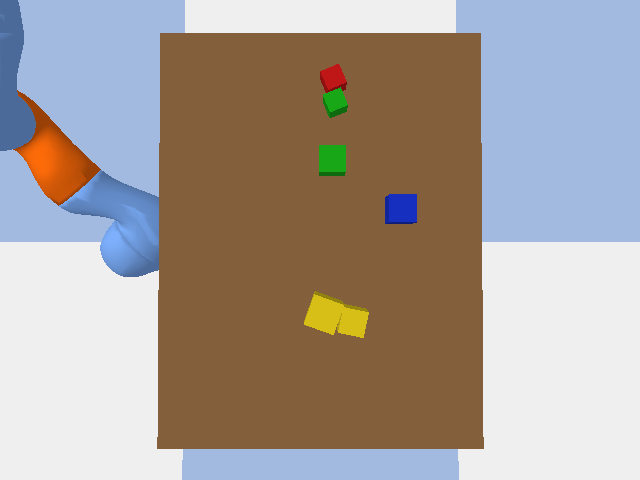blue_obj: (385, 194, 416, 223)
green_obj: (319, 145, 345, 175), (323, 87, 347, 117)
red_obj: (320, 64, 346, 92)
yellow_obj: (304, 291, 343, 334), (337, 304, 368, 337)
